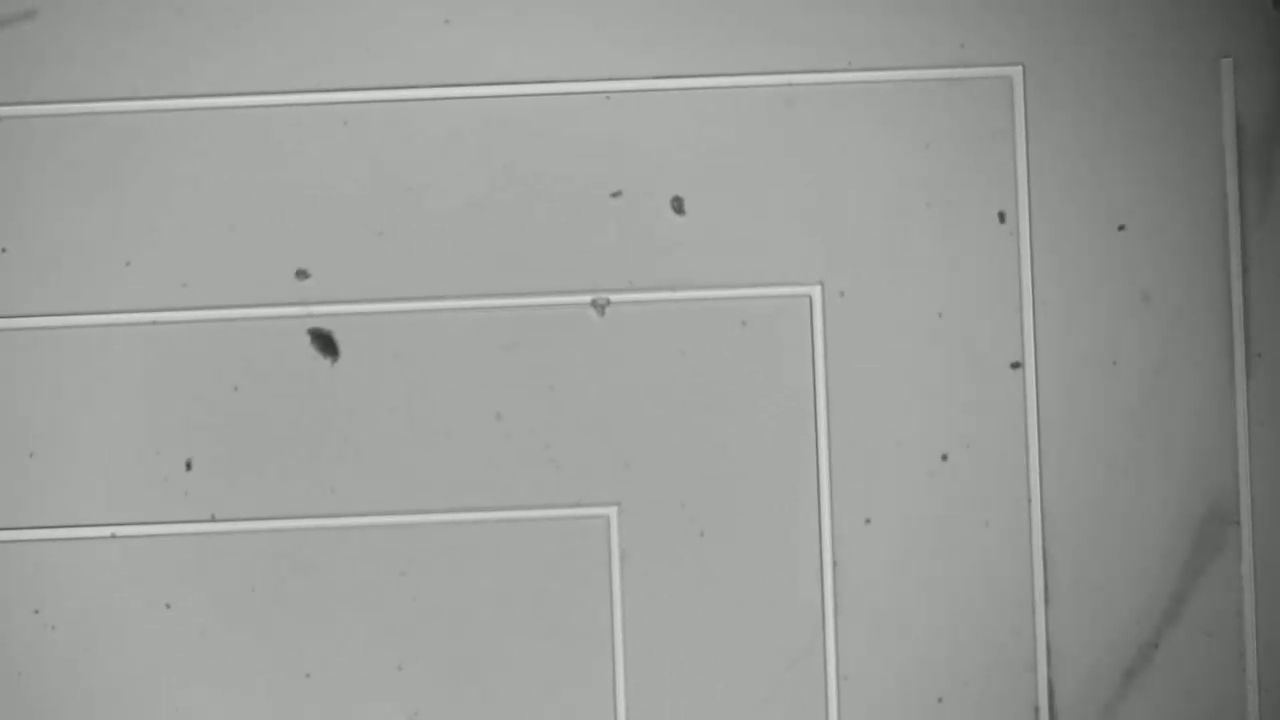stains_enbedded: (588, 283, 617, 321)
